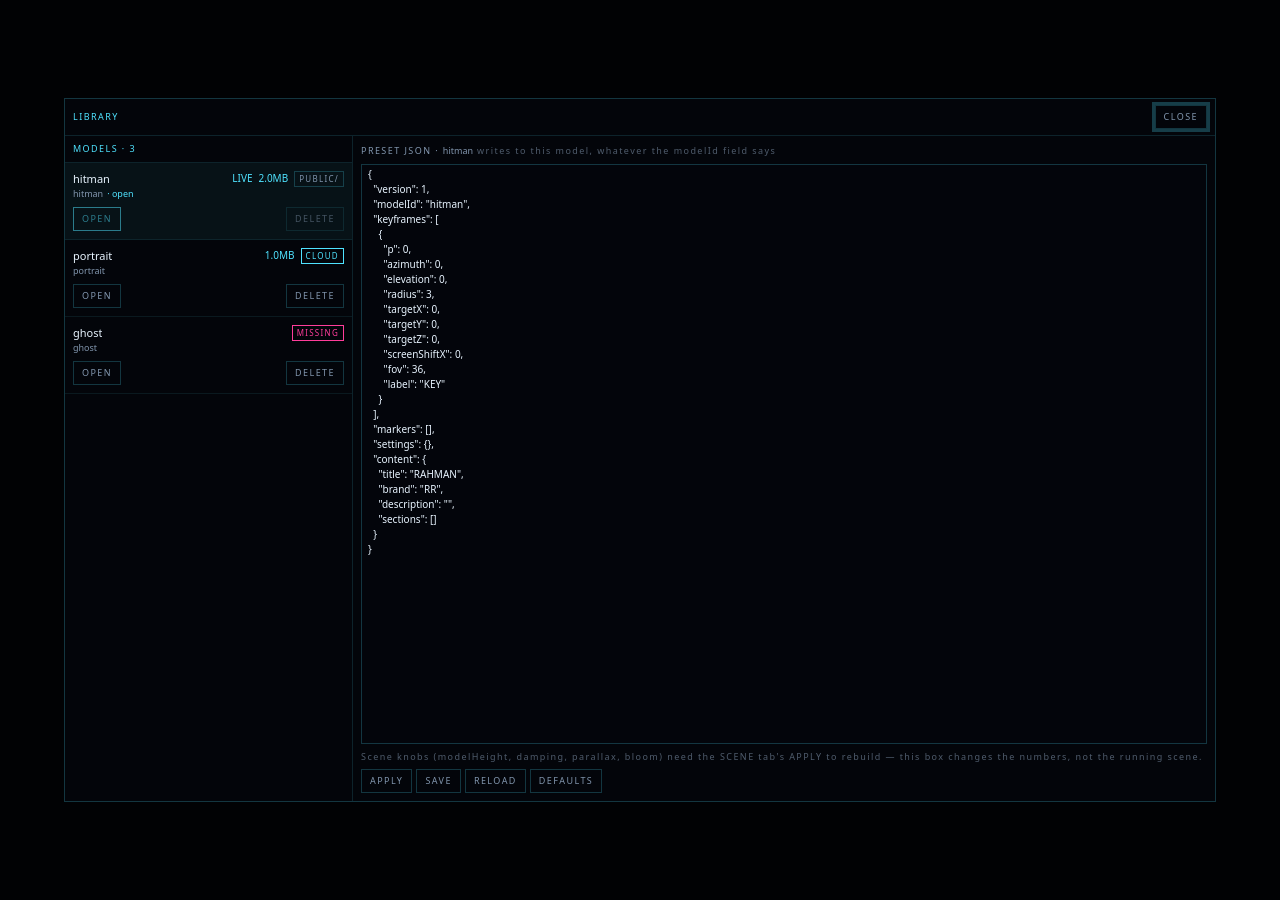
Test case: StudioLibrary › asks once before deleting, because nothing else here does
Click the 2nd button "DELETE" at (315,296), box [286,284,344,308]
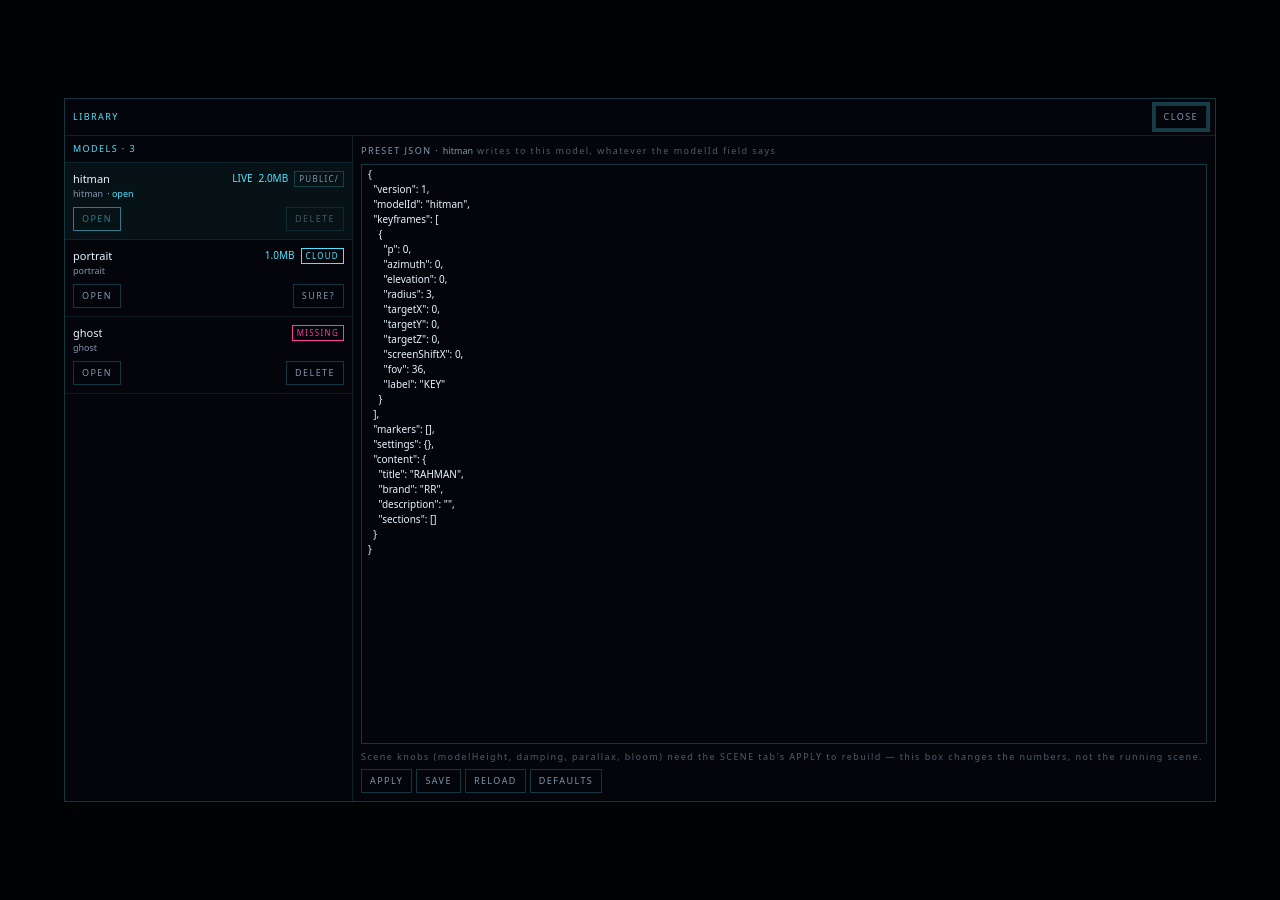
Expected: the button "SURE?" is shown, [293,284,344,308]
